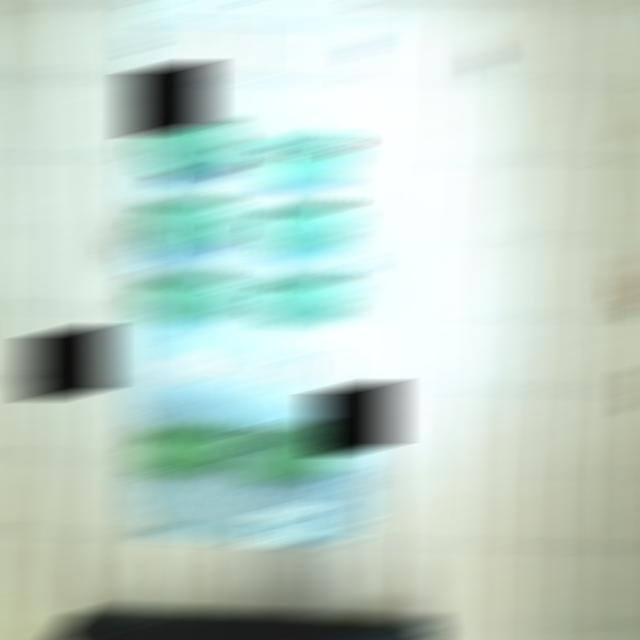Terminal_1: (134, 425, 232, 475), (241, 430, 335, 480)
Terminal_2: (136, 273, 231, 322), (137, 198, 232, 245), (138, 122, 233, 168), (258, 203, 350, 250), (257, 276, 348, 323)
